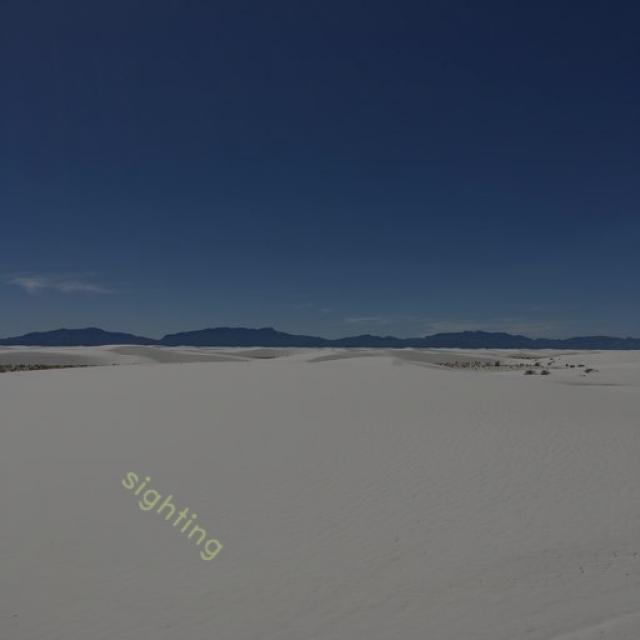watermark: (111, 456, 238, 565)
